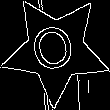O_S: (29, 20, 82, 80)
